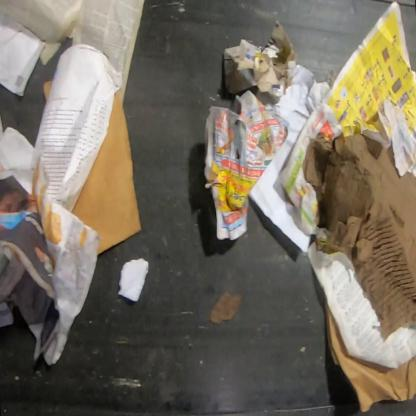cardboard: (303, 131, 416, 340), (72, 90, 143, 256), (325, 295, 415, 412), (43, 79, 53, 103)
